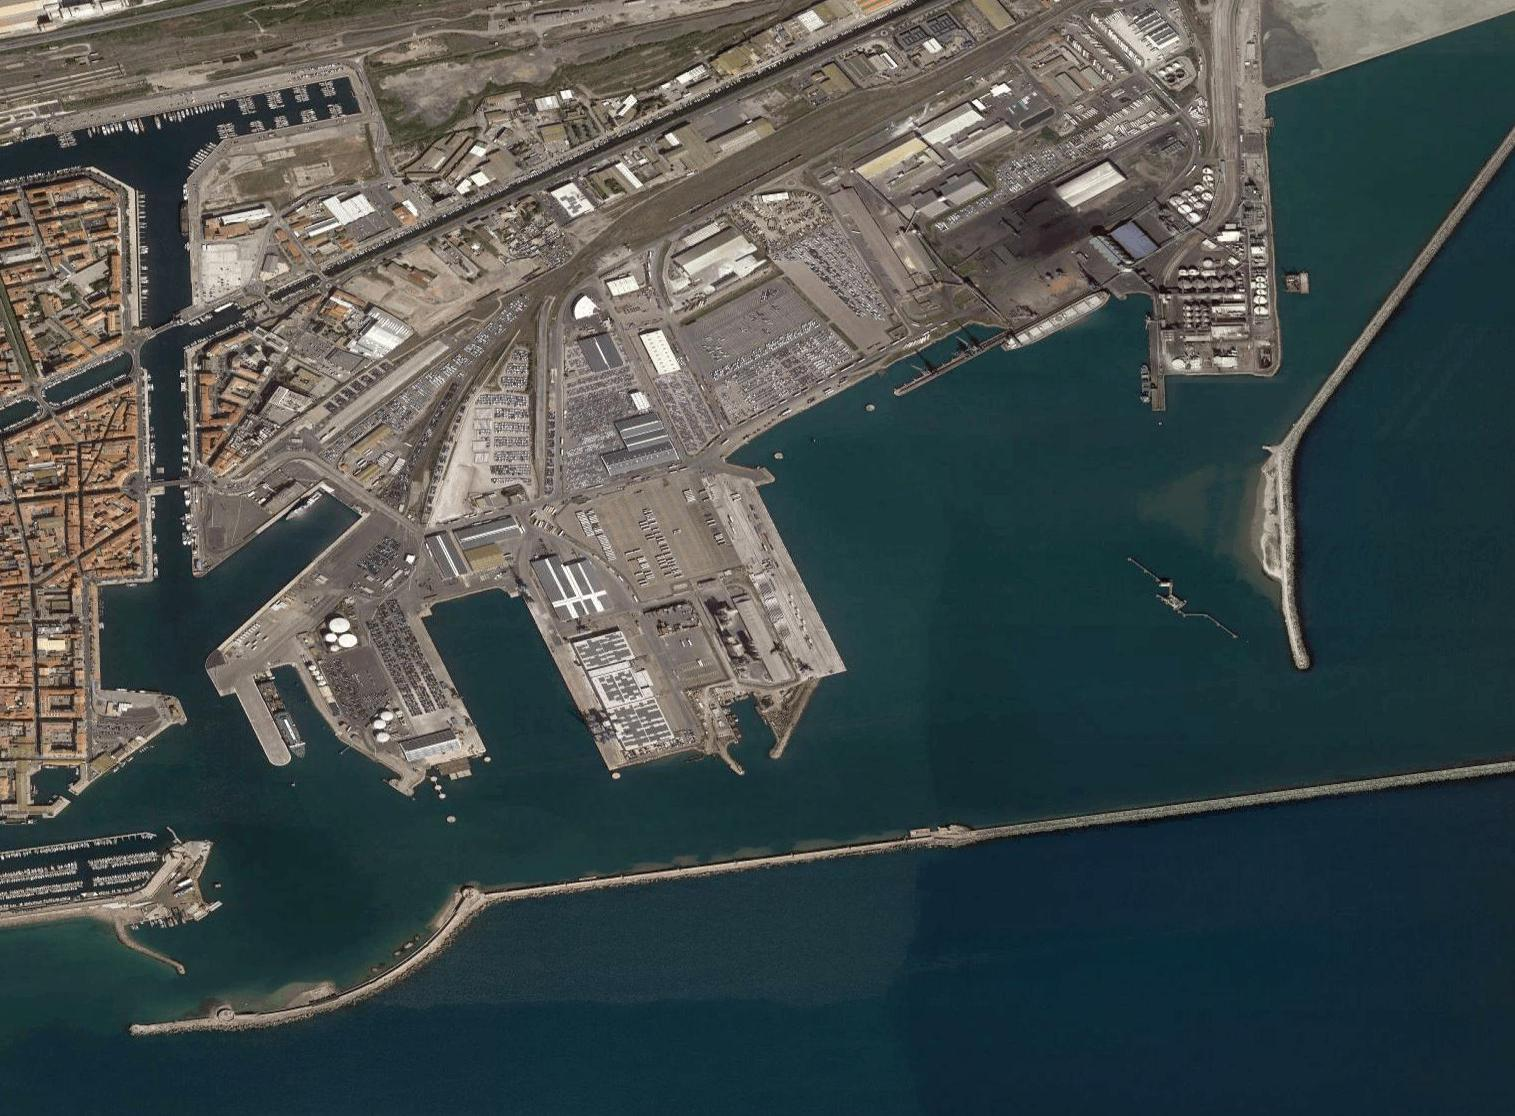harbor: (11, 22, 1367, 1030)
